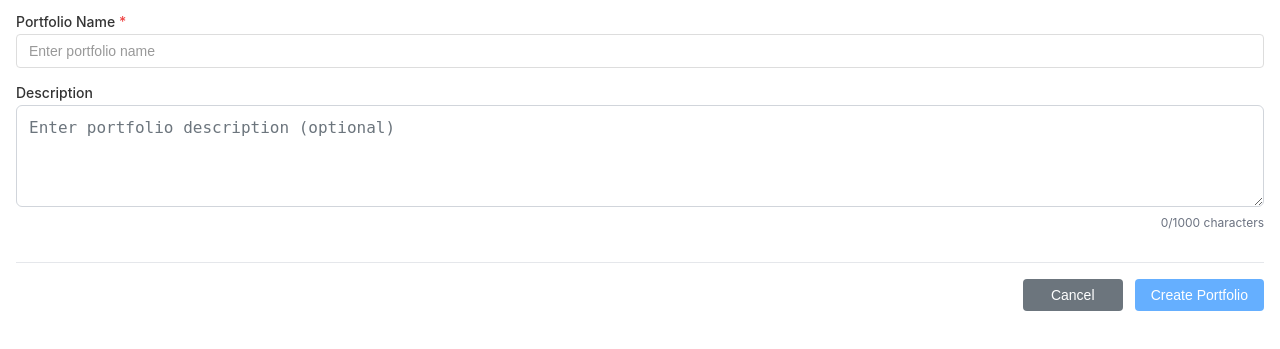
Scenario: PortfolioForm › Form Validation › validates minimum name length
Type "A" into the field labelled "Portfolio Name *" at [640, 51], box [16,34,1264,68]
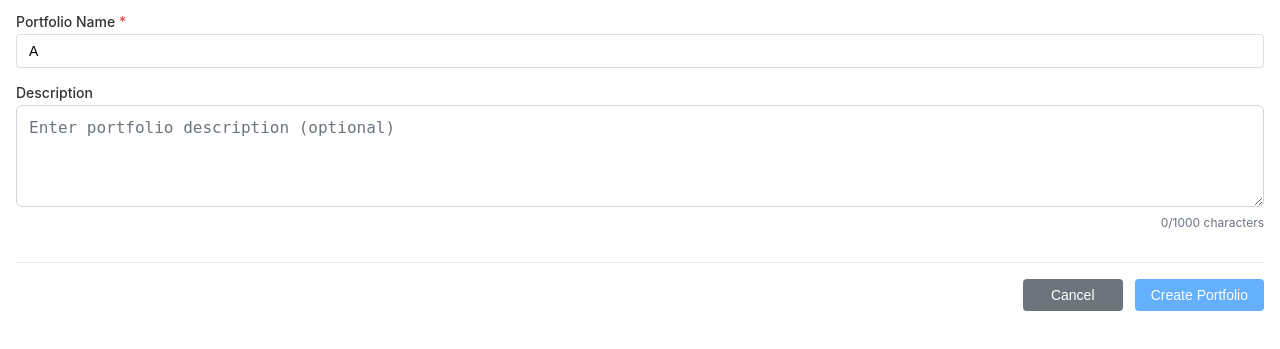
Leave the field labelled "Portfolio Name *", box [16,34,1264,68]
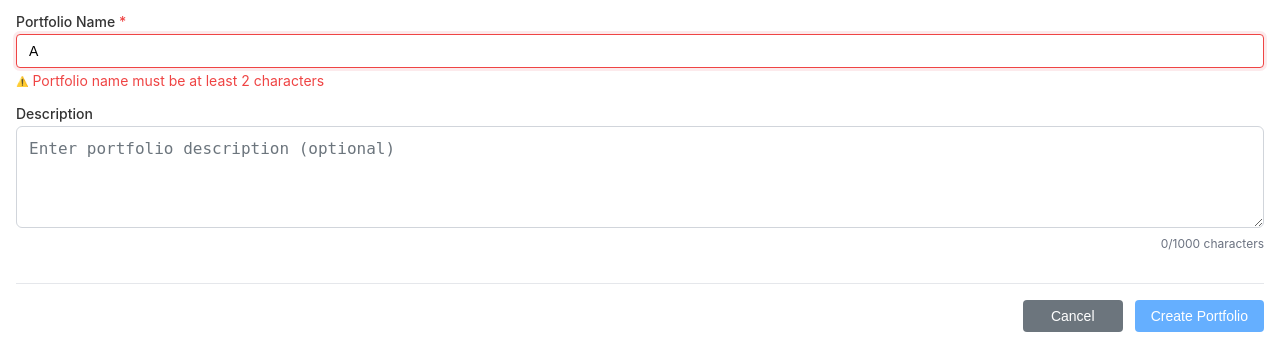
Now the text "Portfolio name must be at least 2 characters" is shown, box [32,72,324,89]
